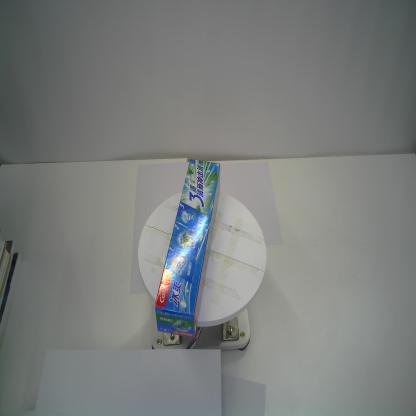Personal Hygiene: (155, 159, 221, 340)
